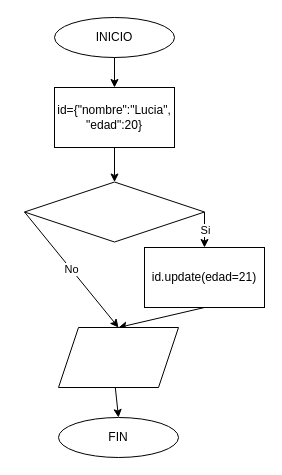
The diagram is 282 pixels wide and 475 high, and some of its shapes have lost their labels. Here are the shapes that lost their labels. From the top down, the box of each, then its label:
(24, 181, 204, 242): if id["edad"]>18:
(58, 326, 178, 388): print("Tuplas diferentes")
